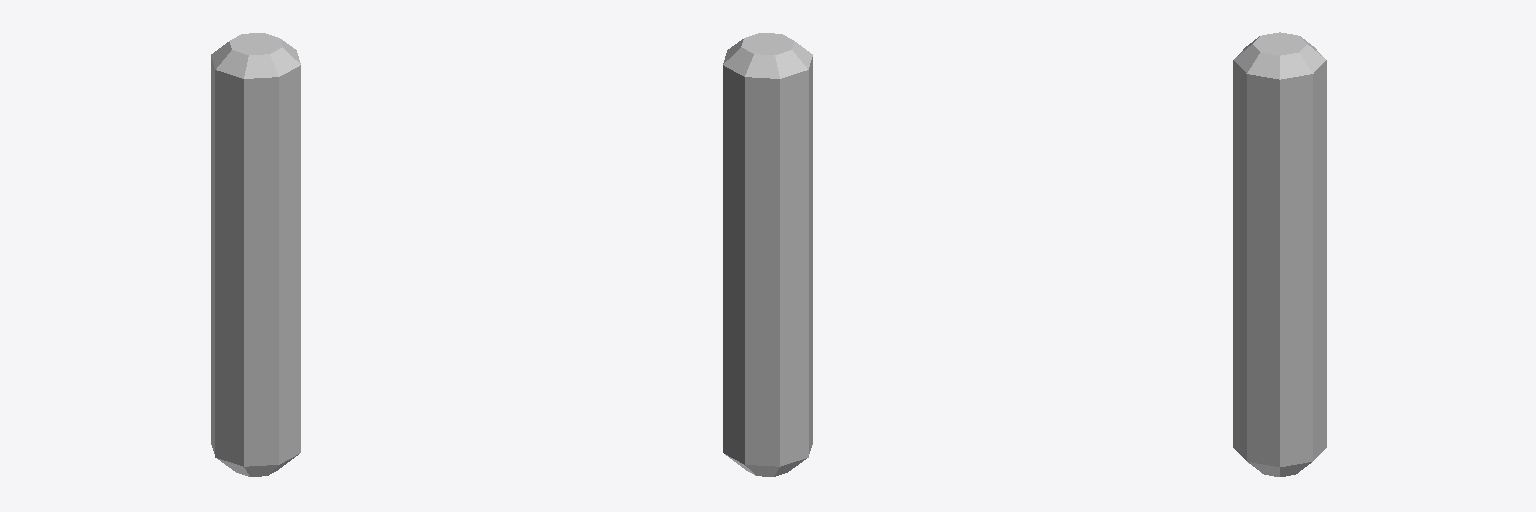
The model's file is Pinball_Pole.obj.
The picture shows the model from 3 angles: view 1: azimuth 30°, elevation 25°; view 2: azimuth 150°, elevation 25°; view 3: azimuth 270°, elevation 25°; orthographic projection.
Visible parts, largest first — view 1: Pole; view 2: Pole; view 3: Pole.
Part boxes in pixels (x1,y1,x2,y2): Pole: (211, 33, 300, 476); Pole: (723, 33, 812, 476); Pole: (1233, 32, 1326, 476).
Bounding box in the file's own units: 0.1 × 0.5 × 0.1.